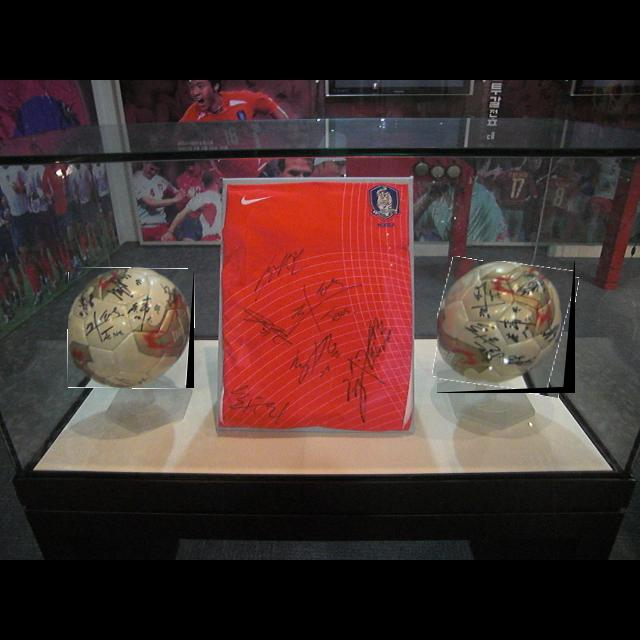Football: (437, 261, 575, 393), (68, 268, 194, 388)
